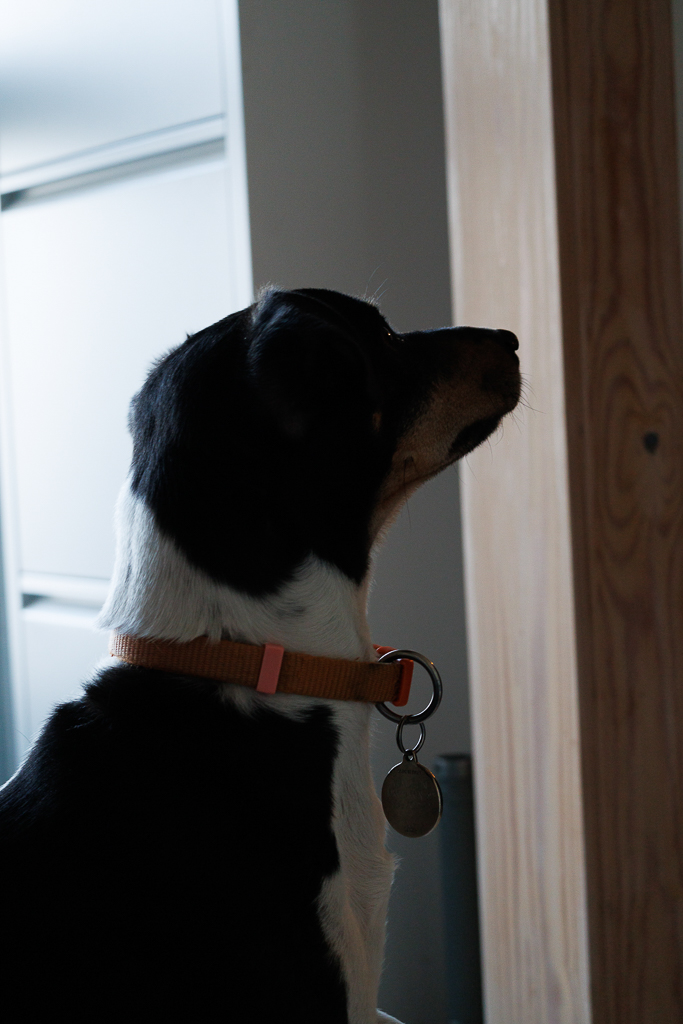Dog: (0, 276, 542, 1023)
